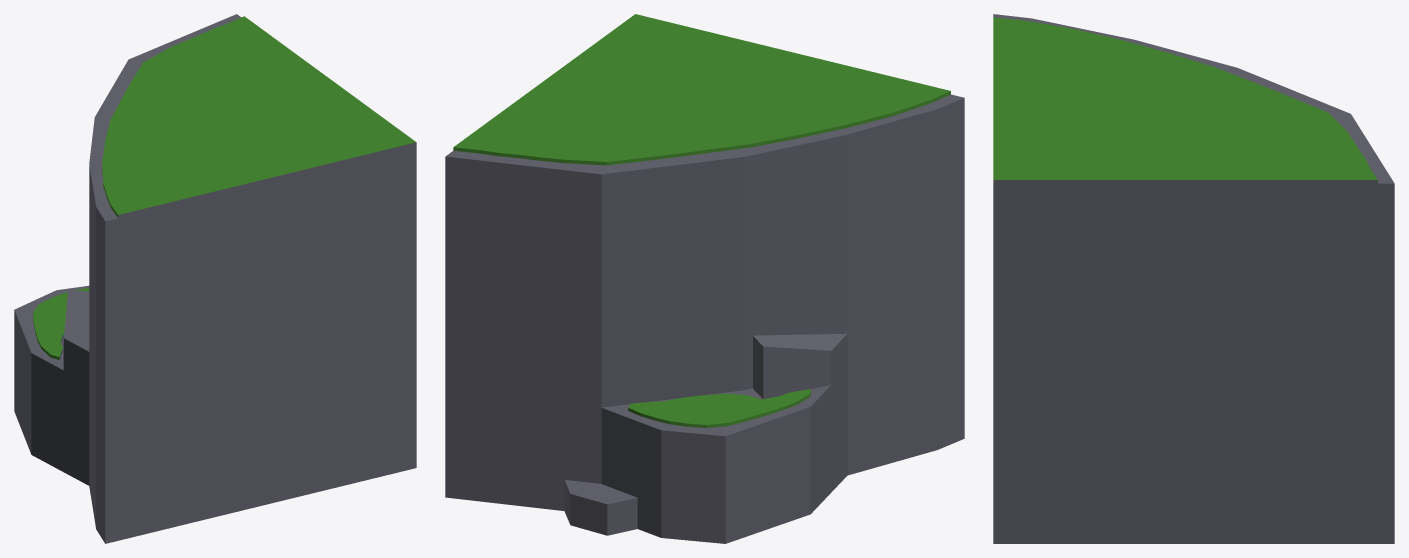
Rendered from Corner3v2.fbx.
3 renders of one model, left to right at view 1: azimuth 30°, elevation 25°; view 2: azimuth 150°, elevation 25°; view 3: azimuth 270°, elevation 25°, orthographic. The views are drawn at different scales.
Visible parts, largest first — view 1: Plane.032; view 2: Plane.032; view 3: Plane.032.
Part boxes in pixels (bbox=[...]): Plane.032: bbox=[14, 14, 416, 543]; Plane.032: bbox=[445, 14, 964, 543]; Plane.032: bbox=[993, 14, 1394, 543].
Bounding box in the file's own units: 75 × 75 × 75.
